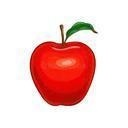apple: (27, 40, 97, 107)
